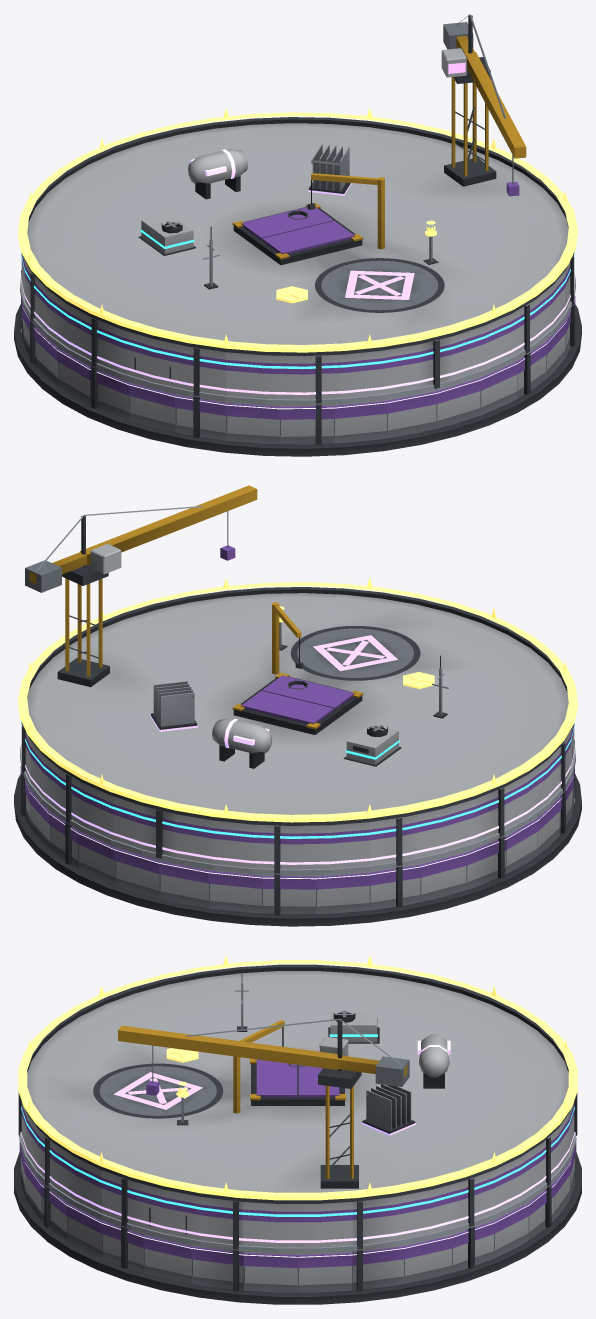
The model's file is storehouse_m_far.glb.
3 views of the same model, one above another, from view 1: azimuth 30°, elevation 25°; view 2: azimuth 150°, elevation 25°; view 3: azimuth 270°, elevation 25° (orthographic).
Visible parts, largest first — view 1: Roof, Base, L5, L4, L2, L3; view 2: Roof, Base, L5, L4, L2, L3; view 3: Roof, Base, L5, L4, L2, L3.
Boxes of the visible parts, left/top/right/bottom form: Roof: left=21, top=14, right=574, bottom=403; Base: left=14, top=270, right=581, bottom=456; L5: left=18, top=108, right=577, bottom=352; L4: left=21, top=144, right=574, bottom=394; L2: left=20, top=226, right=575, bottom=405; L3: left=21, top=210, right=574, bottom=368; Roof: left=21, top=485, right=574, bottom=873; Base: left=14, top=740, right=581, bottom=926; L5: left=18, top=578, right=577, bottom=822; L4: left=21, top=681, right=574, bottom=864; L2: left=20, top=655, right=575, bottom=875; L3: left=21, top=680, right=574, bottom=838; Roof: left=18, top=964, right=577, bottom=1249; Base: left=14, top=1135, right=581, bottom=1304; L5: left=18, top=955, right=577, bottom=1200; L4: left=21, top=1034, right=574, bottom=1242; L2: left=20, top=970, right=575, bottom=1253; L3: left=21, top=1010, right=574, bottom=1216.
Size of the model in its own units: 16.26 by 8.23 by 16.26.
